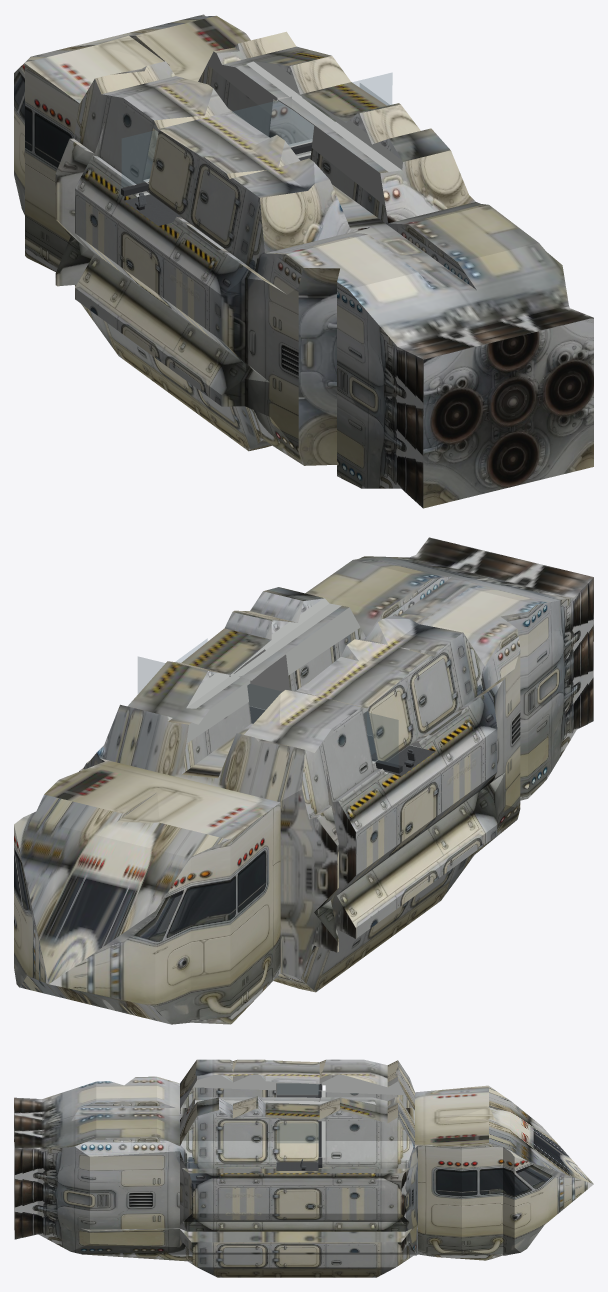
Rendered from supply_freighter.glb.
3 renders of one model, top to bottom at view 1: azimuth 30°, elevation 25°; view 2: azimuth 150°, elevation 25°; view 3: azimuth 270°, elevation 25°, orthographic. The views are drawn at different scales.
Parts seen in each view (by area): view 1: supply_freighter, supply_freighter_cabin; view 2: supply_freighter, supply_freighter_cabin; view 3: supply_freighter, supply_freighter_cabin.
Part boxes in pixels (left/top/right/bottom): supply_freighter: left=14, top=14, right=593, bottom=508; supply_freighter_cabin: left=121, top=73, right=392, bottom=225; supply_freighter: left=14, top=537, right=593, bottom=1024; supply_freighter_cabin: left=138, top=639, right=434, bottom=775; supply_freighter: left=14, top=1059, right=593, bottom=1277; supply_freighter_cabin: left=276, top=1083, right=322, bottom=1170.
Bounding box in the file's own units: 19.85 × 19.59 × 59.89.
11 materials, 4 textured.
